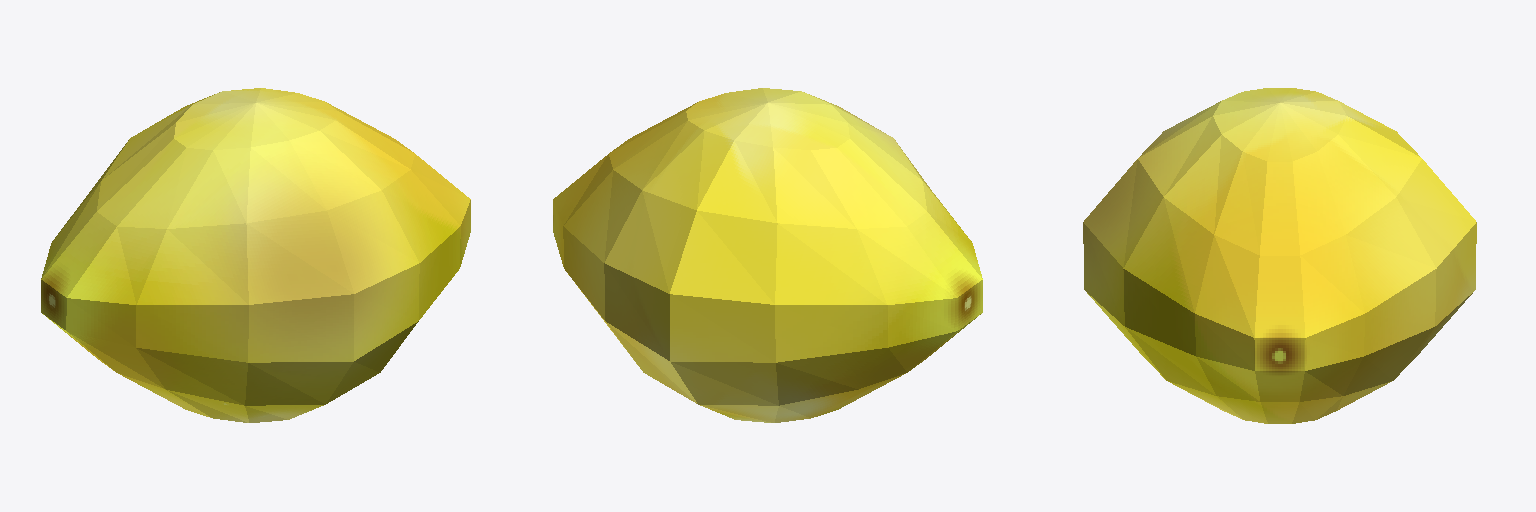
The picture shows the model from 3 angles: view 1: azimuth 30°, elevation 25°; view 2: azimuth 150°, elevation 25°; view 3: azimuth 270°, elevation 25°; orthographic projection.
Parts seen in each view (by area): view 1: Sphere001; view 2: Sphere001; view 3: Sphere001.
Boxes of the visible parts, <box> form: Sphere001: <box>41,88,470,422</box>; Sphere001: <box>553,88,982,422</box>; Sphere001: <box>1083,88,1476,423</box>.
Size of the model in its own units: 74.78 by 54.22 by 63.08.
Materials: 1 (1 with a texture image).